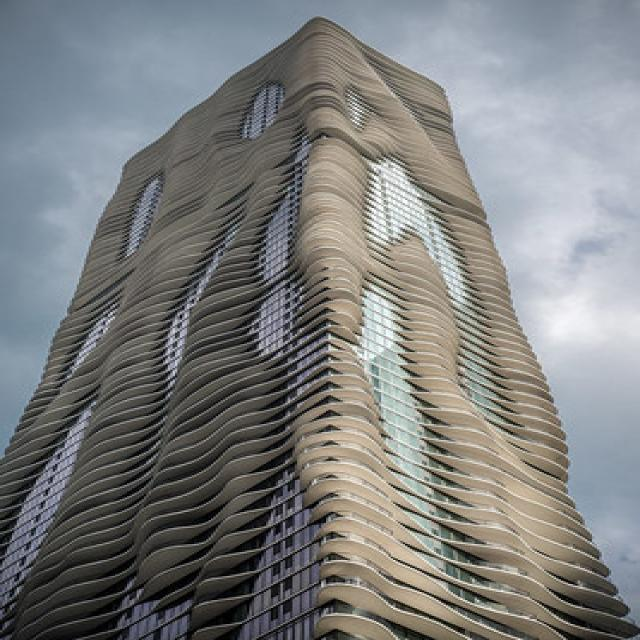Normal_building: (5, 14, 640, 639)
